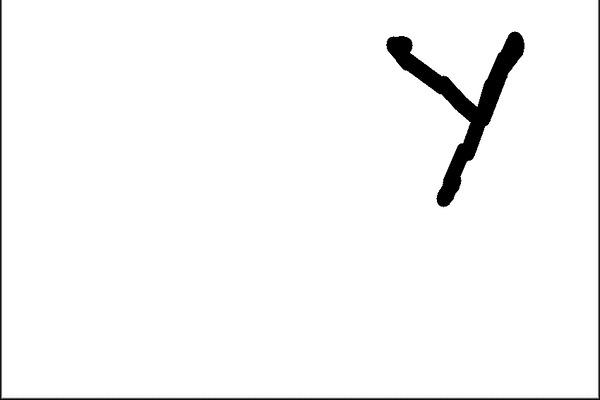Y: (374, 20, 533, 212)
